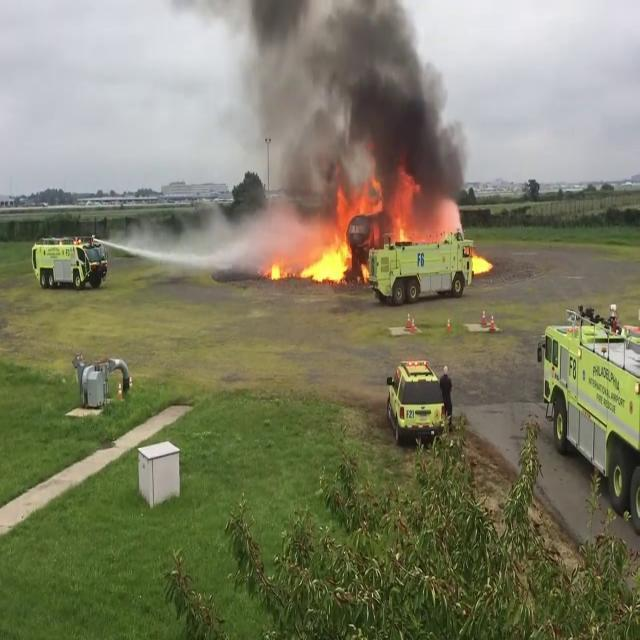Fire: (340, 170, 428, 247), (267, 228, 355, 286)
Smoke: (230, 0, 468, 212)
